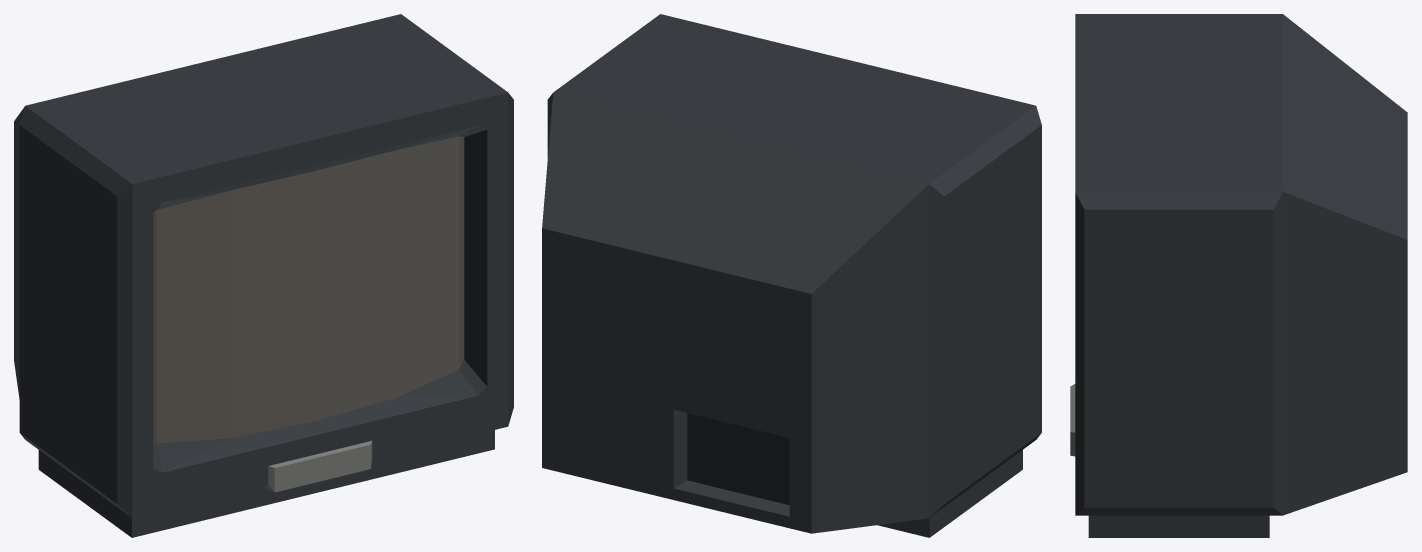
The model's file is SM_Prop_TV_01.glb.
3 renders of one model, left to right at view 1: azimuth 30°, elevation 25°; view 2: azimuth 150°, elevation 25°; view 3: azimuth 270°, elevation 25°, orthographic. The views are drawn at different scales.
Parts seen in each view (by area): view 1: SM_Prop_TV_01; view 2: SM_Prop_TV_01; view 3: SM_Prop_TV_01.
Part boxes in pixels (x1=…): SM_Prop_TV_01: x1=14, y1=14, x2=513, y2=537; SM_Prop_TV_01: x1=542, y1=14, x2=1041, y2=537; SM_Prop_TV_01: x1=1070, y1=14, x2=1407, y2=537.
Size of the model in its own units: 0.6716 by 0.5832 by 0.5104.
Materials: 1 (1 with a texture image).
